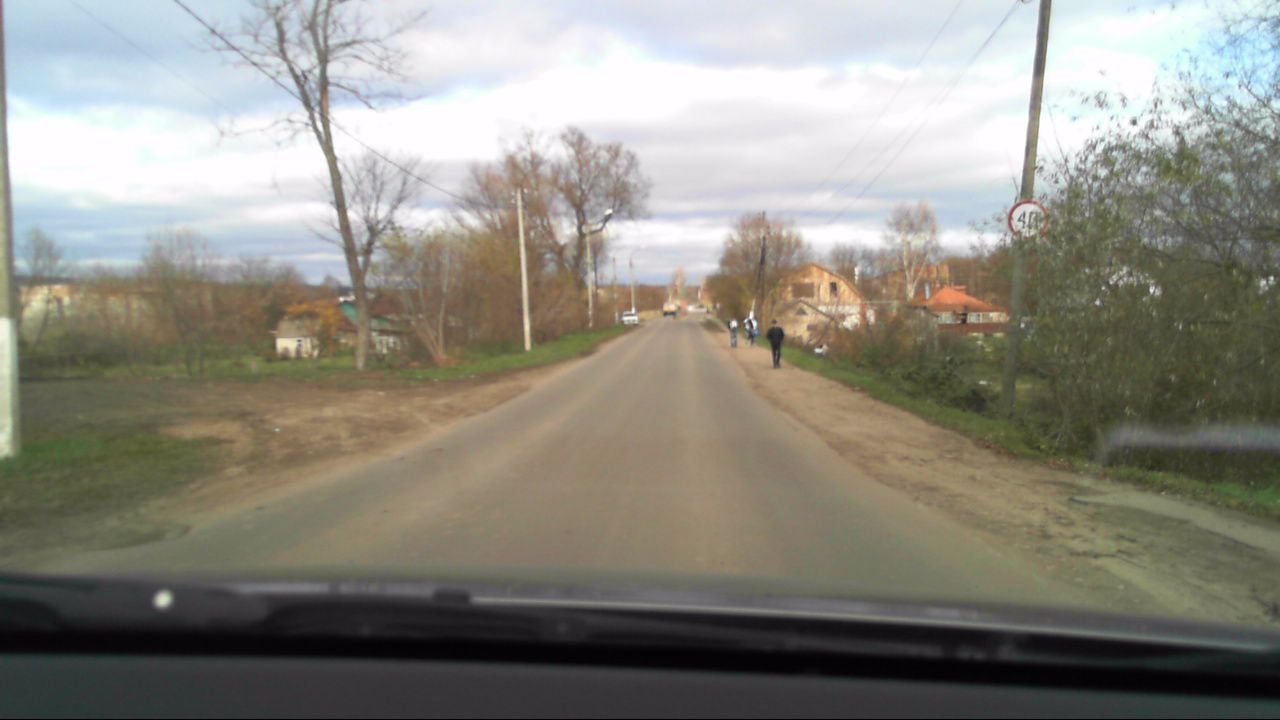speed_warning_40: (1008, 200, 1047, 239)
